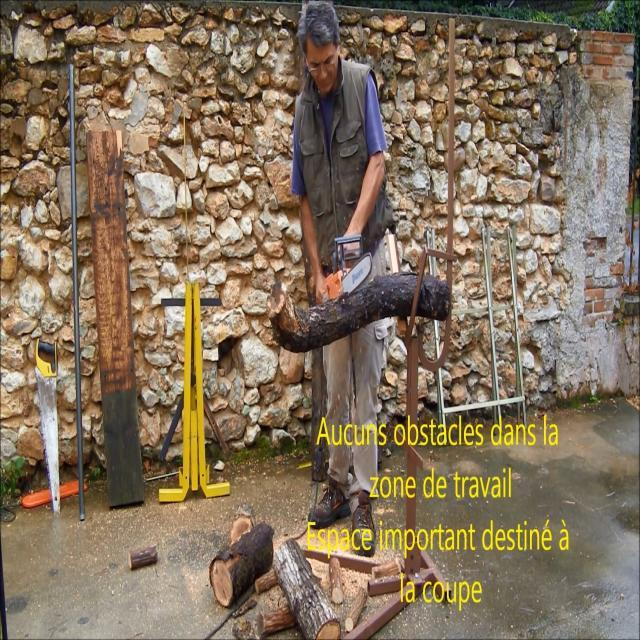Chainsaw: (306, 216, 381, 326)
